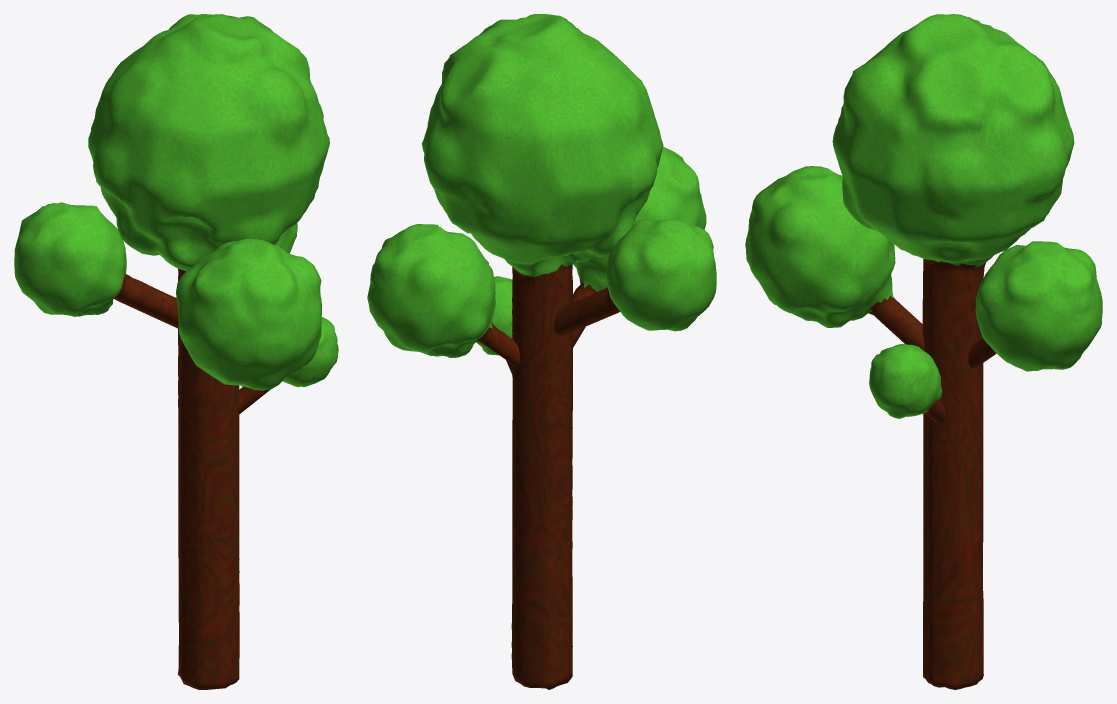
Rendered from round_tree.fbx.
The picture shows the model from 3 angles, left to right: view 1: azimuth 30°, elevation 25°; view 2: azimuth 150°, elevation 25°; view 3: azimuth 270°, elevation 25°; orthographic projection.
Parts seen in each view (by area): view 1: Trunk2; view 2: Trunk2; view 3: Trunk2.
Boxes of the visible parts, <box> form: Trunk2: <box>14,14,338,689</box>; Trunk2: <box>367,14,716,689</box>; Trunk2: <box>745,14,1102,689</box>.
Bounding box in the file's own units: 723 × 1495 × 736.
2 materials, 2 textured.
